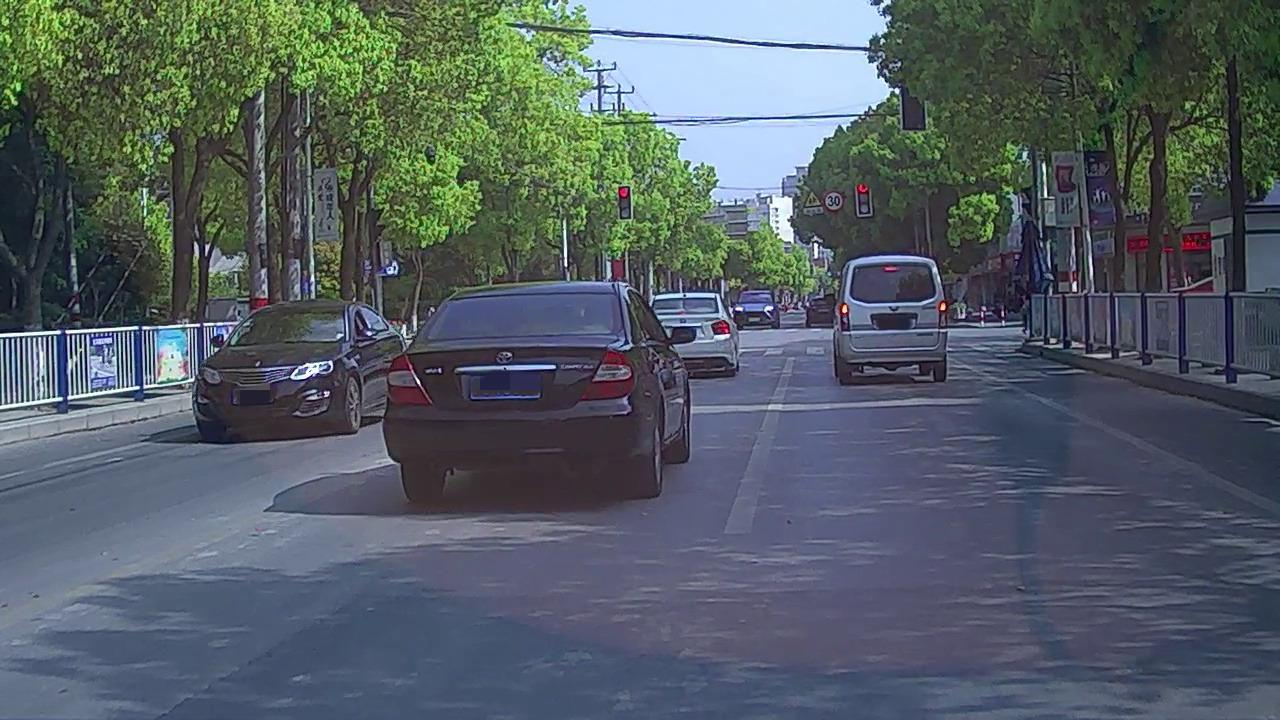traffic_light: (856, 180, 872, 215), (619, 186, 630, 218)
